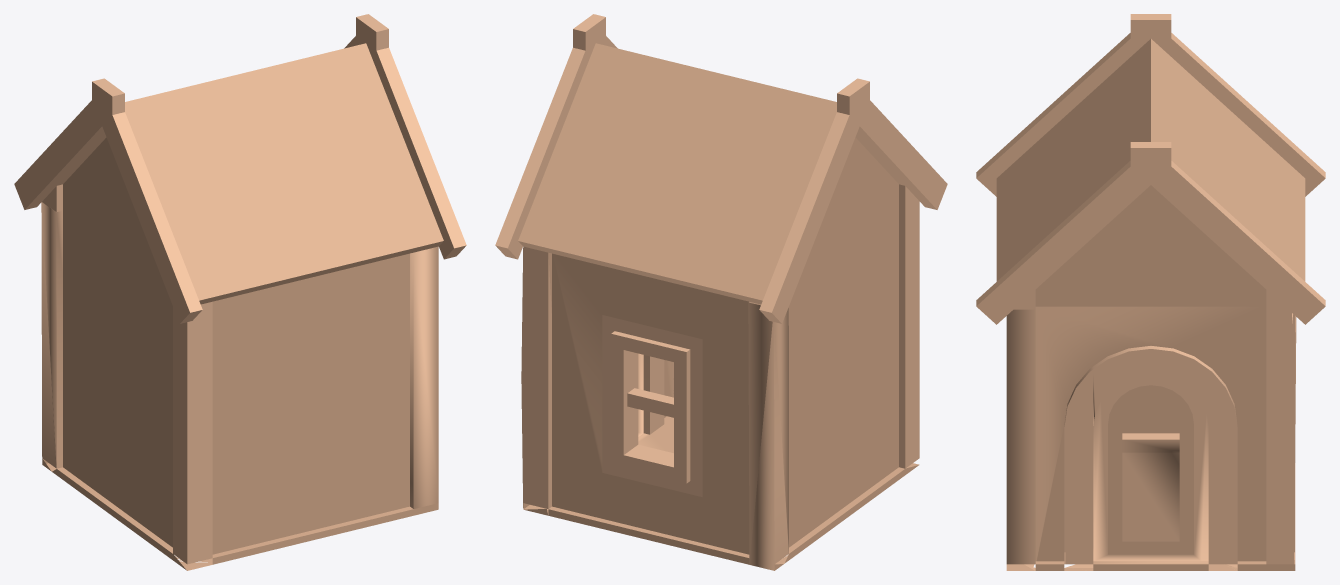
The model's file is Barack.fbx.
3 views of the same model, side by side, from view 1: azimuth 30°, elevation 25°; view 2: azimuth 150°, elevation 25°; view 3: azimuth 270°, elevation 25° (orthographic).
Visible parts, largest first — view 1: wallWoodDoor; view 2: wallWoodDoor; view 3: wallWoodDoor.
Part boxes in pixels (<box>): wallWoodDoor: <box>14,14,466,570</box>; wallWoodDoor: <box>495,14,947,570</box>; wallWoodDoor: <box>976,14,1325,570</box>.
Bounding box in the file's own units: 110 × 164 × 121.
